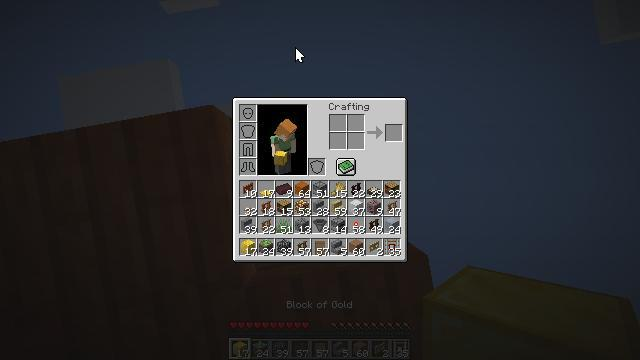cursor: (47, 295, 63, 305)
